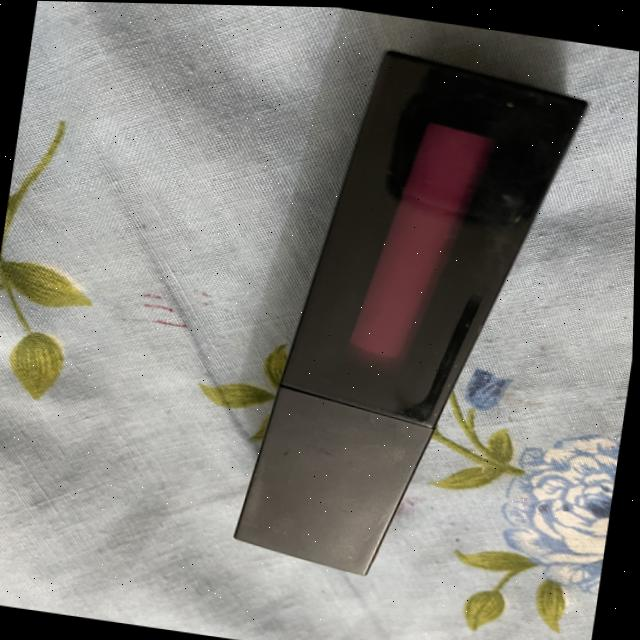lip gloss: (195, 21, 632, 614)
